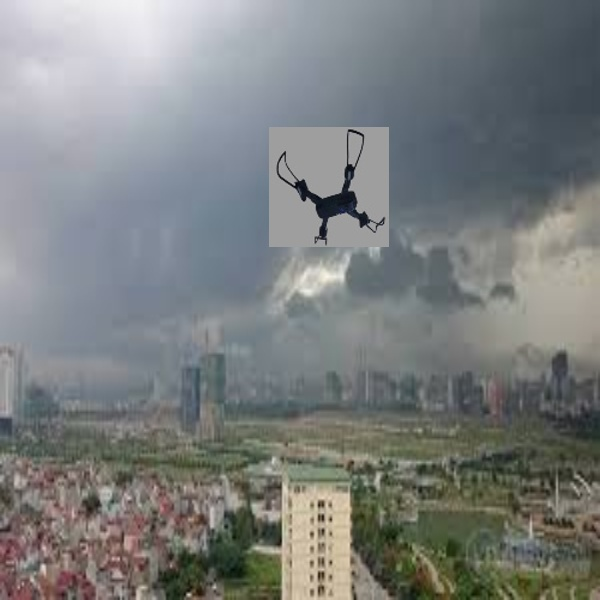drone: (273, 126, 392, 247)
